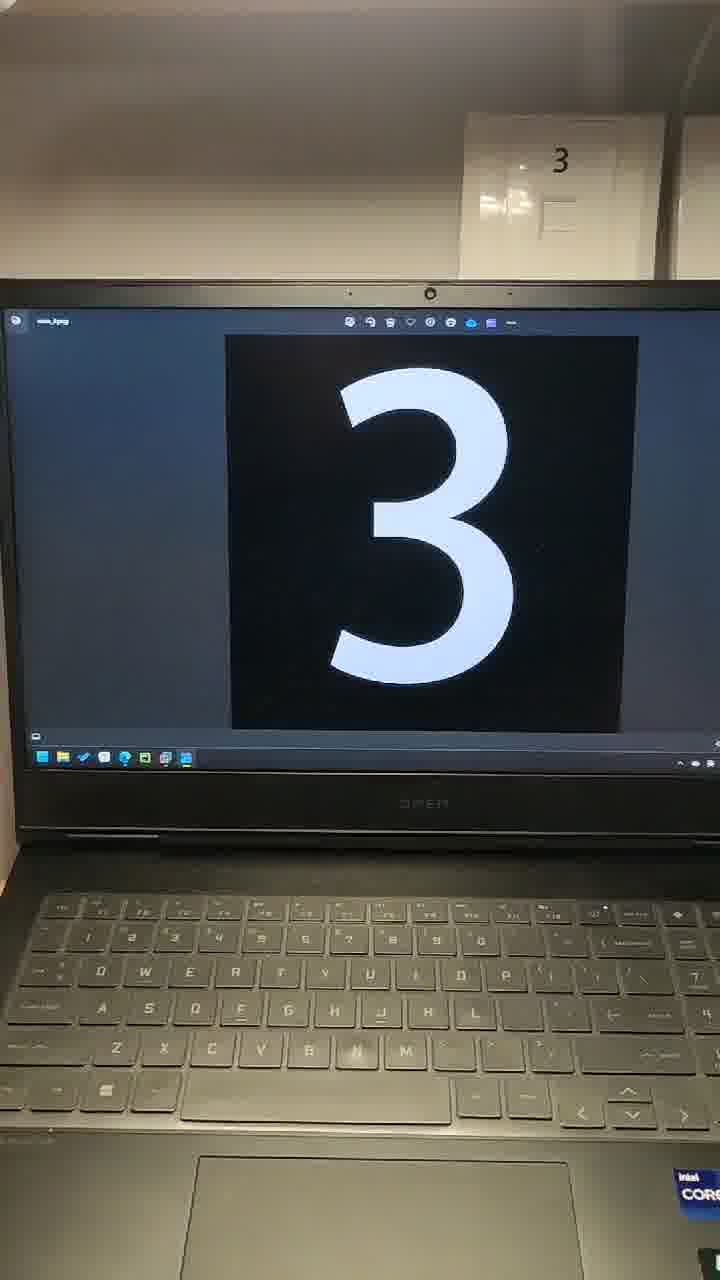three: (326, 309, 596, 754)
